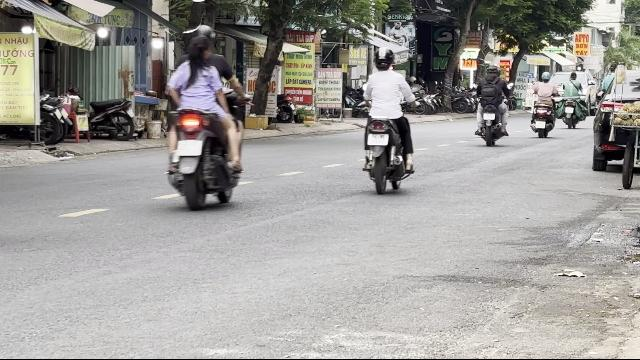helmet: (373, 46, 395, 70), (191, 24, 215, 44)
licenseplate: (176, 140, 200, 156), (368, 133, 388, 145)
motorcyclist: (161, 24, 247, 208), (357, 46, 417, 192)
nohelmet: (186, 36, 214, 64)
